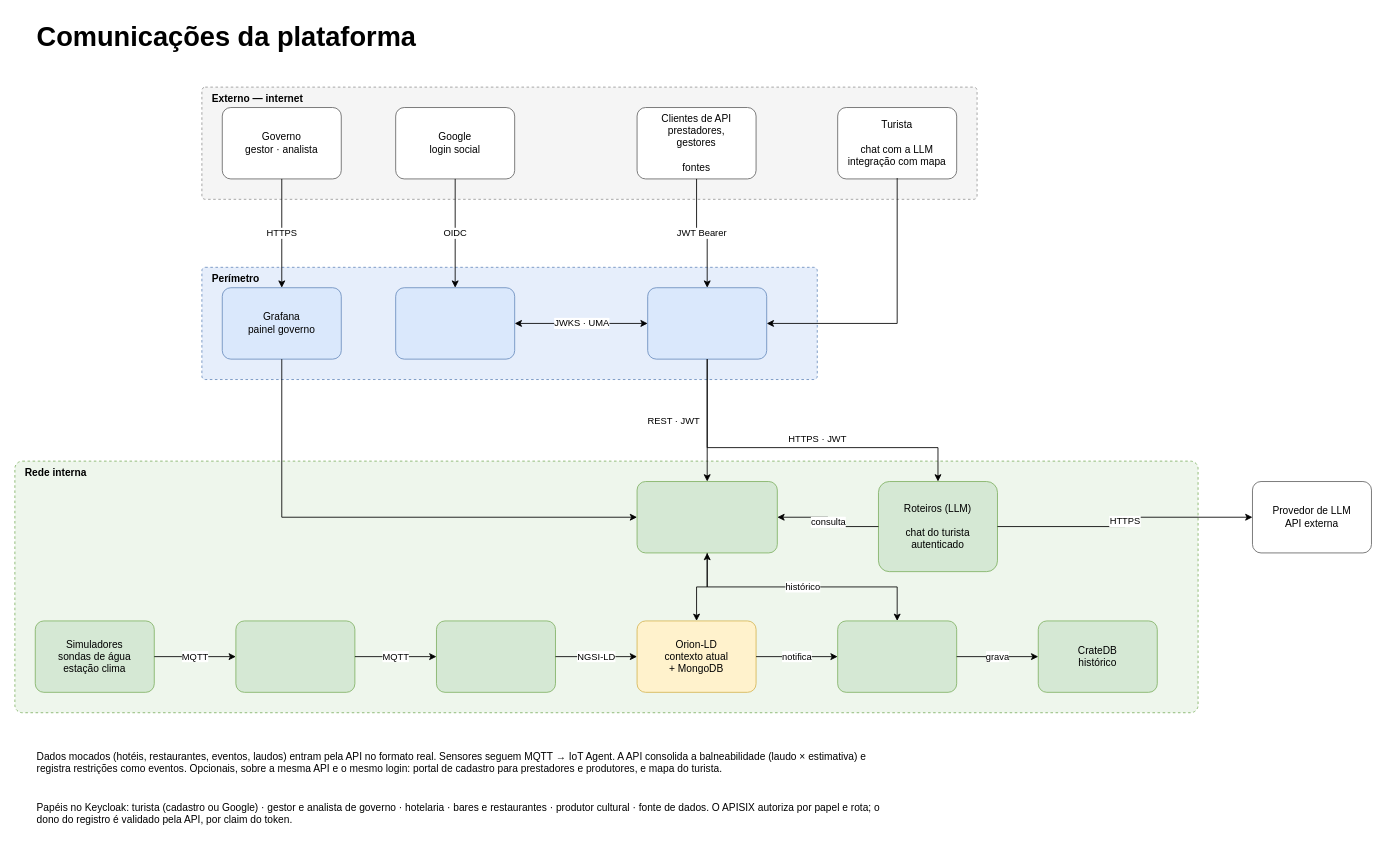
Image size: 1386x848. Some labels were removed from this diagram. Each missing label, with the box of its shape:
API da plataforma cadastro/consulta valida o dono: (636, 481, 777, 553)
APISIX gateway · PEP JWT + papel: (647, 287, 767, 359)
IoT Agent JSON MQTT → NGSI-LD: (436, 620, 555, 692)
Keycloak IdP · papéis: (395, 287, 515, 359)
Mosquitto broker MQTT: (235, 620, 355, 692)
QuantumLeap série temporal: (837, 620, 957, 692)
